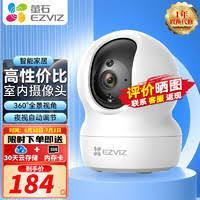maru: (70, 38, 182, 136)
